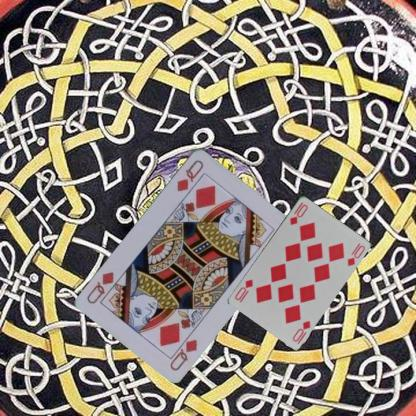10d: (287, 199, 309, 226), (290, 318, 312, 342)
Qd: (167, 329, 199, 372), (174, 157, 205, 193)
